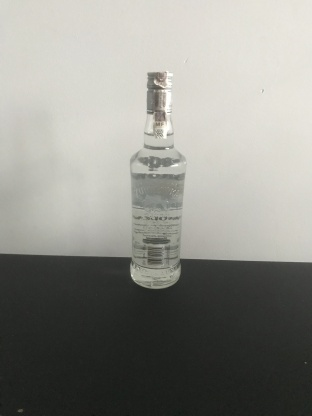nakretka: (145, 69, 174, 114)
